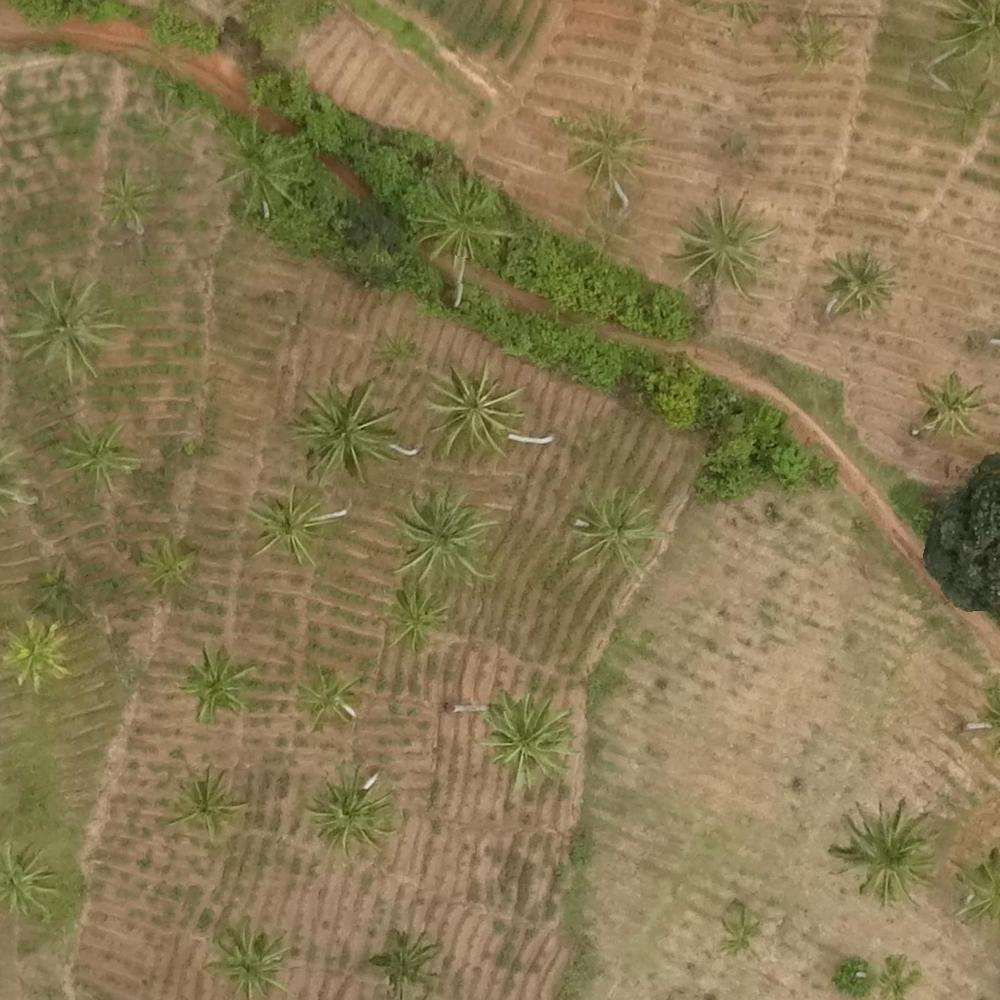Palm: (293, 377, 395, 482), (669, 195, 771, 296), (14, 281, 114, 384), (837, 799, 930, 902), (422, 361, 519, 457), (397, 489, 493, 584), (213, 119, 302, 212), (481, 697, 574, 780), (572, 489, 660, 575), (417, 175, 503, 263), (205, 921, 290, 996), (250, 482, 326, 565), (311, 774, 397, 846), (565, 110, 645, 186), (913, 369, 988, 444), (60, 419, 131, 494), (821, 246, 896, 316), (1, 849, 70, 924), (186, 647, 252, 718), (169, 772, 242, 836), (386, 581, 450, 650), (366, 936, 444, 992), (294, 663, 360, 729), (3, 618, 69, 683), (94, 168, 155, 227), (135, 535, 194, 593), (30, 562, 80, 622)
